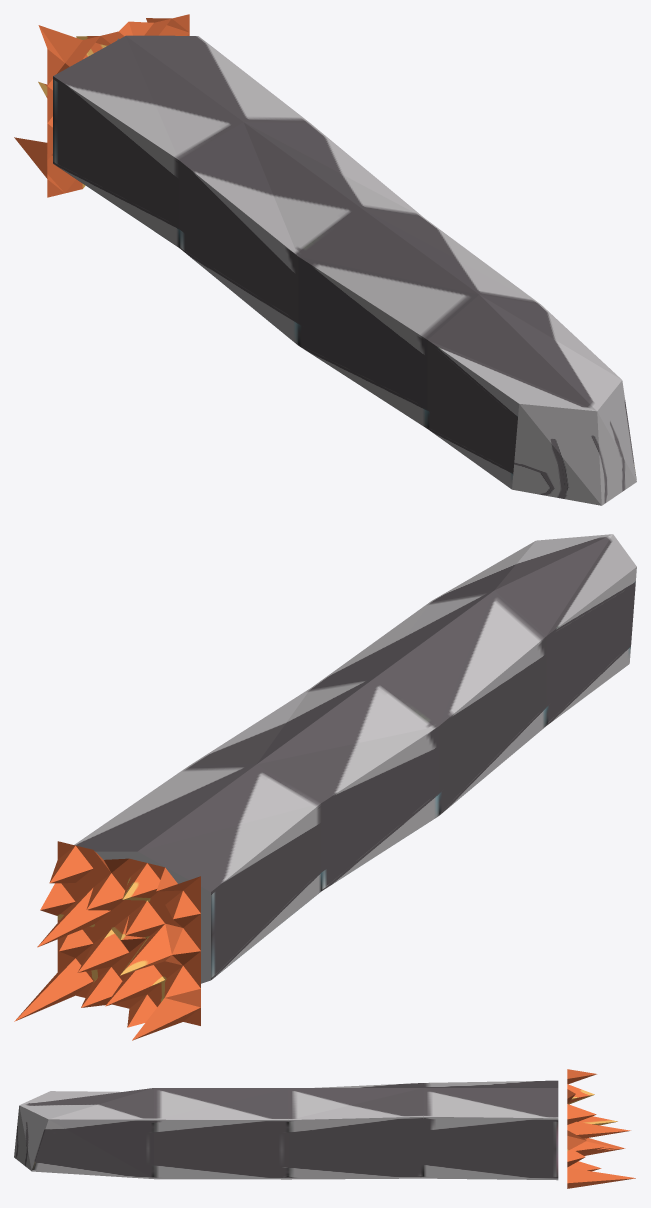
Rendered from RightArm.obj.
3 renders of one model, top to bottom at view 1: azimuth 30°, elevation 25°; view 2: azimuth 150°, elevation 25°; view 3: azimuth 270°, elevation 25°, orthographic. The views are drawn at different scales.
Visible parts, largest first — view 1: 平面; view 2: 平面; view 3: 平面.
Part boxes in pixels (bbox=[...]): 平面: bbox=[14, 14, 636, 505]; 平面: bbox=[14, 534, 636, 1040]; 平面: bbox=[14, 1069, 635, 1188].
Bounding box in the file's own units: 0.8573 × 0.8573 × 5.57.
Materials: 1 (1 with a texture image).
